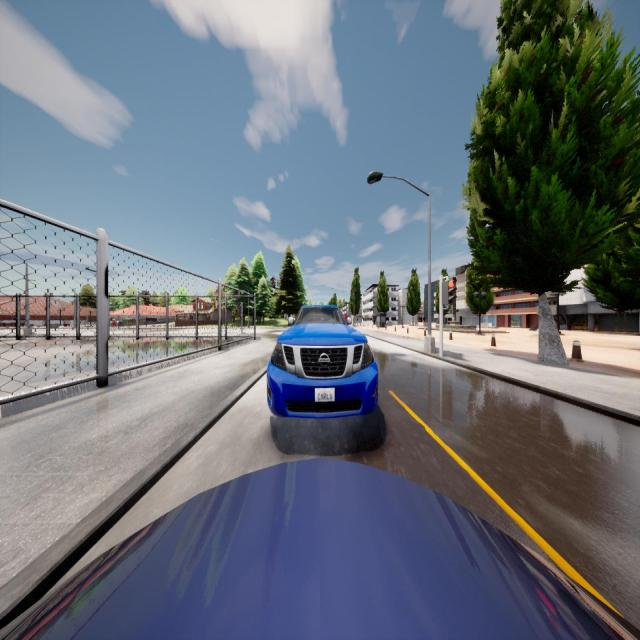Vehicle: (0, 458, 640, 640), (266, 305, 378, 417)
traffic_light: (442, 281, 456, 303), (240, 305, 242, 315)
